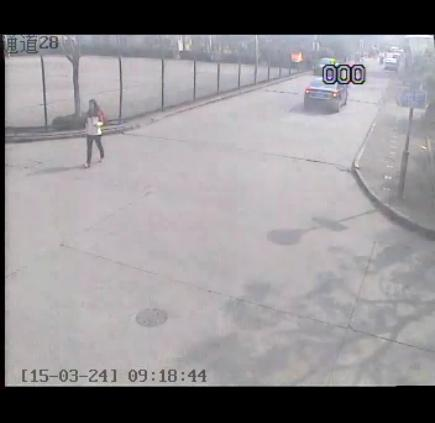person: (75, 89, 112, 175)
